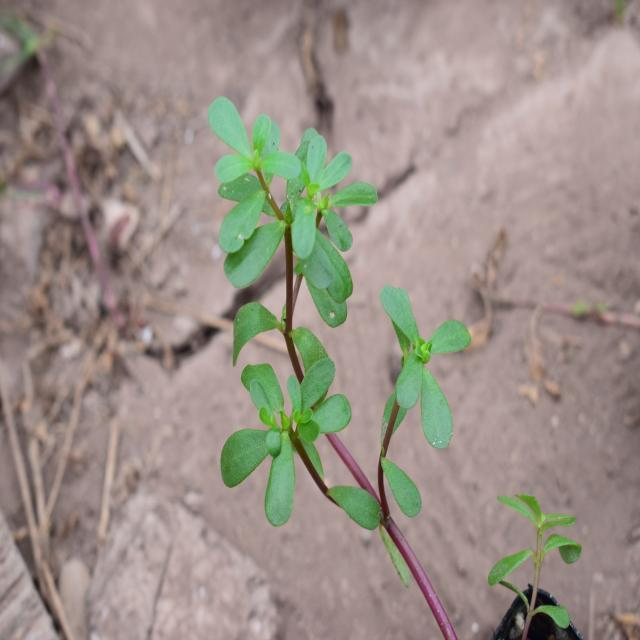purslane: (190, 82, 479, 608)
